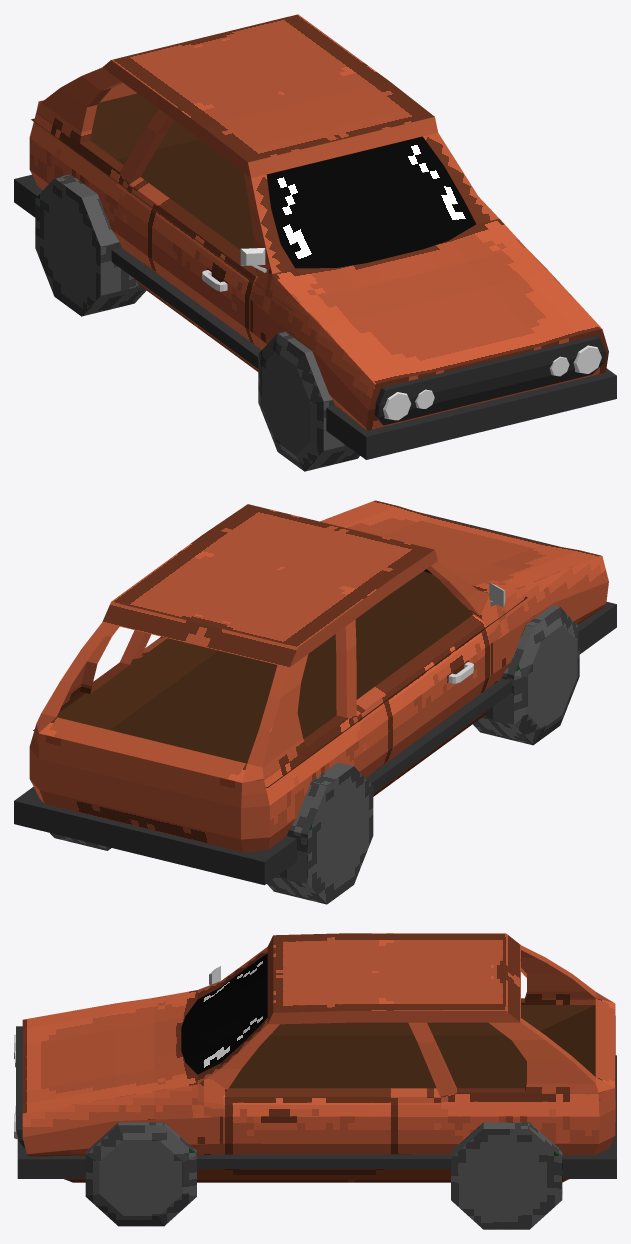
The model's file is golf.glb.
3 renders of one model, top to bottom at view 1: azimuth 30°, elevation 25°; view 2: azimuth 150°, elevation 25°; view 3: azimuth 270°, elevation 25°, orthographic. The views are drawn at different scales.
Visible parts, largest first — view 1: Plane.029, Plane.034, Cylinder.016, Plane.031, Cylinder.015, Plane.030, Plane.032, Cylinder.017, Plane.033; view 2: Plane.029, Plane.034, Cylinder.016, Cylinder.015, Plane.033, Plane.032, Plane.031; view 3: Plane.029, Plane.034, Cylinder.016, Cylinder.015, Plane.032, Plane.031, Plane.033, Plane.030.
Part boxes in pixels (x1,y1,x2,y2): Plane.029: [29, 14, 608, 430]; Plane.034: [31, 93, 292, 309]; Cylinder.016: [35, 174, 146, 316]; Plane.031: [326, 368, 616, 459]; Cylinder.015: [258, 331, 359, 471]; Plane.030: [374, 335, 605, 425]; Plane.032: [111, 247, 261, 368]; Cylinder.017: [383, 345, 601, 420]; Plane.033: [14, 174, 42, 217]; Plane.029: [29, 500, 608, 852]; Plane.034: [33, 572, 527, 787]; Cylinder.016: [50, 762, 373, 904]; Cylinder.015: [473, 605, 579, 745]; Plane.033: [14, 787, 296, 885]; Plane.032: [365, 678, 511, 793]; Plane.031: [423, 571, 616, 654]; Plane.029: [22, 933, 615, 1182]; Plane.034: [157, 1005, 600, 1100]; Cylinder.016: [451, 1122, 562, 1229]; Cylinder.015: [85, 1122, 196, 1226]; Plane.032: [197, 1154, 450, 1168]; Plane.031: [17, 1140, 85, 1178]; Plane.033: [562, 1055, 616, 1178]; Plane.030: [16, 1026, 24, 1147].
Bounding box in the file's own units: 2.25 × 1.86 × 5.06.
Materials: 3 (1 with a texture image).
